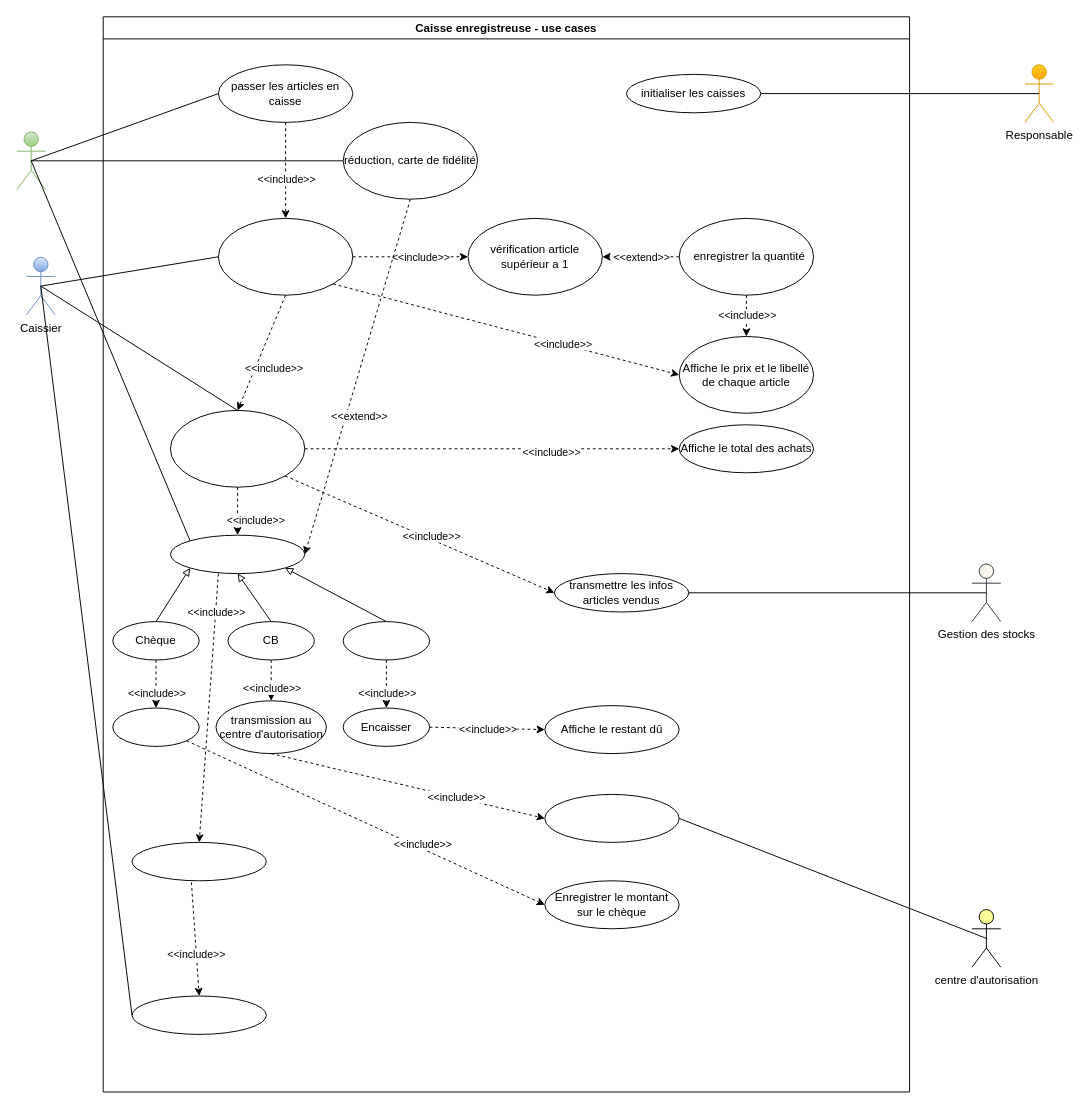
The diagram is 1090 pixels wide and 1109 high, and some of its shapes have lost their labels. Each missing label, with the centre of its shape:
autorisation paiement CB: [611,817]
Client: [31,160]
enregistrer la vente et impression ticket: [198,861]
Enregistrer le numéro d'identification des articles: [285,256]
Liquide: [386,640]
noter l'identité du client: [155,726]
Paiement: [237,554]
Signaler la fin de vente: [237,448]
transmettre le ticket: [198,1014]
